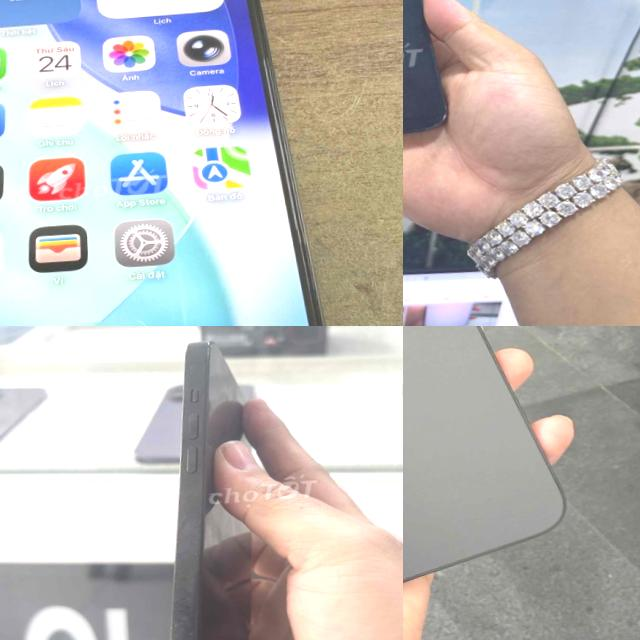gen_14: (130, 326, 295, 640), (403, 326, 577, 612)
gen_15: (0, 0, 361, 326)
scratch: (154, 579, 231, 640), (182, 347, 200, 380)
